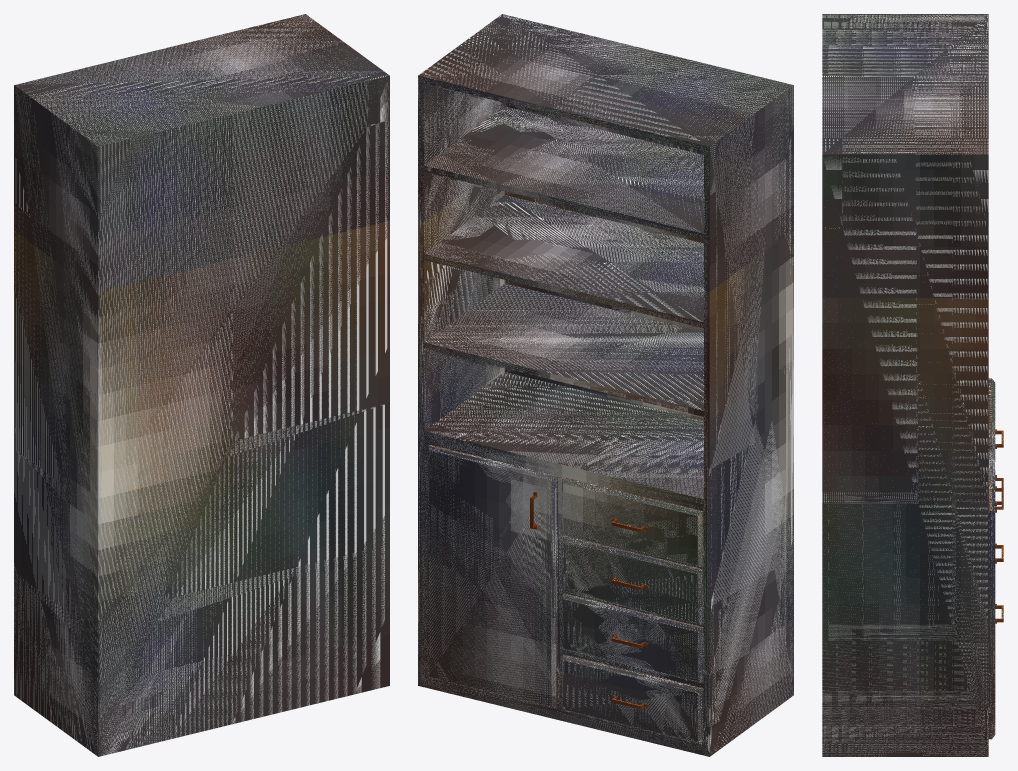
3 renders of one model, left to right at view 1: azimuth 30°, elevation 25°; view 2: azimuth 150°, elevation 25°; view 3: azimuth 270°, elevation 25°, orthographic.
Visible parts, largest first — view 1: mesh2_mesh2-geometry; view 2: mesh2_mesh2-geometry, mesh1_mesh1-geometry; view 3: mesh2_mesh2-geometry, mesh1_mesh1-geometry.
Part boxes in pixels (x1,y1,x2,y2): mesh2_mesh2-geometry: (14,14,389,756); mesh2_mesh2-geometry: (418,14,793,756); mesh1_mesh1-geometry: (530,491,647,709); mesh2_mesh2-geometry: (822,14,995,756); mesh1_mesh1-geometry: (995,429,1003,623).
Size of the model in its own units: 0.4345 by 0.869 by 0.2368.
